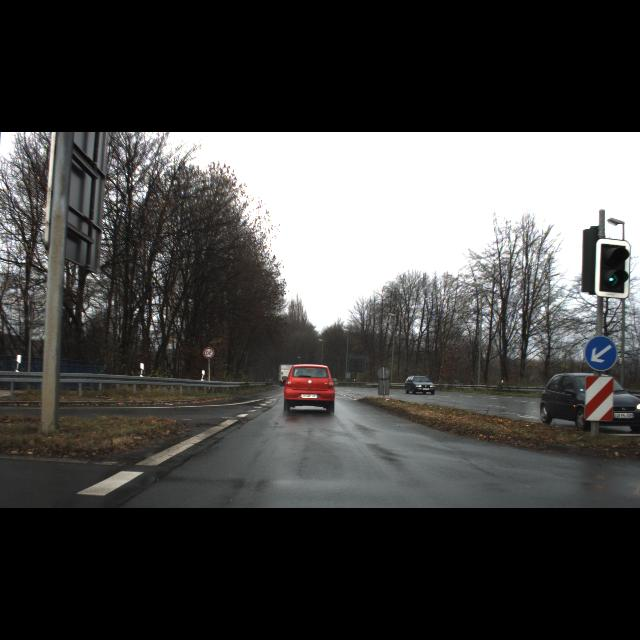mandatory: (584, 336, 618, 370)
prohibitory: (203, 347, 215, 359)
